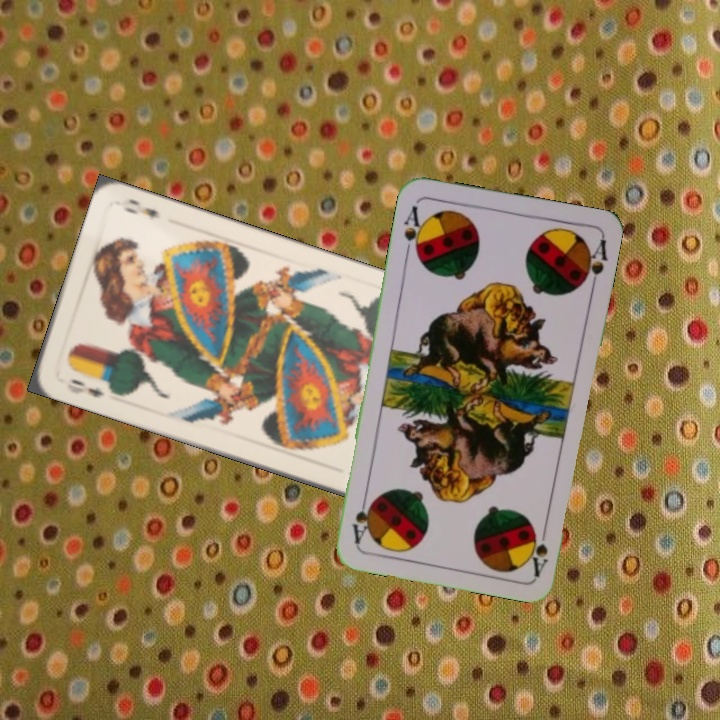EO: (66, 375, 108, 400)
SA: (400, 202, 428, 260), (526, 519, 551, 578)
